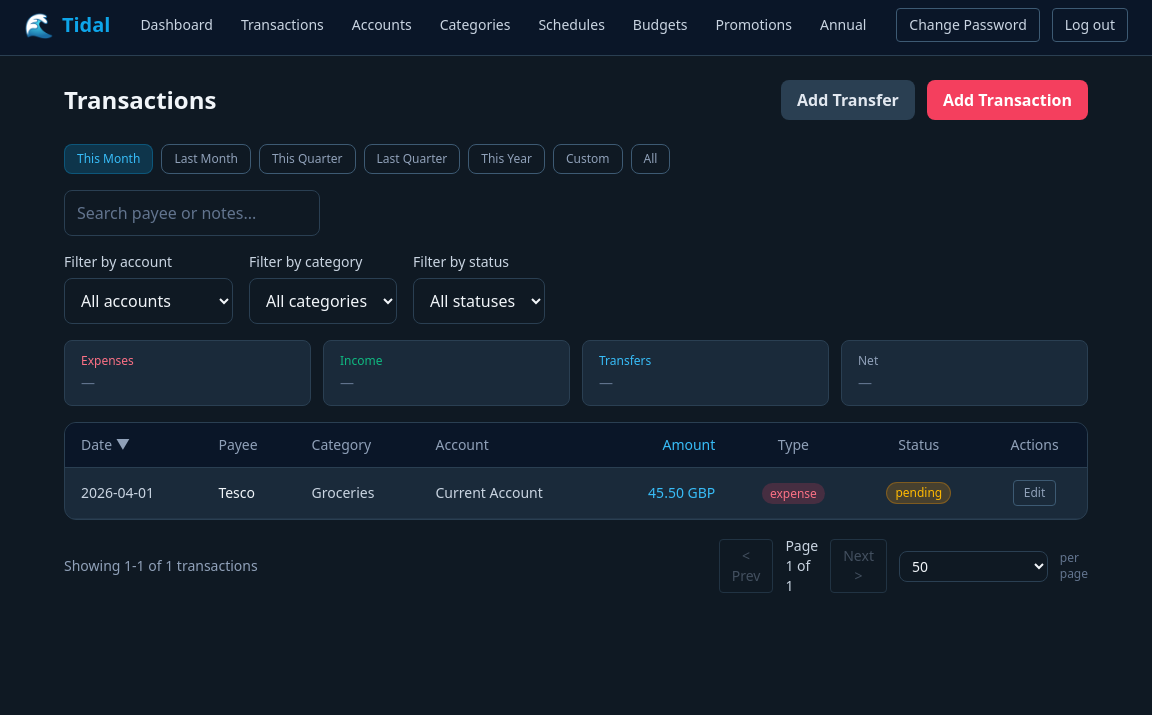
Scenario: TransactionsPage › clicking Edit opens AddTransactionForm in edit mode
Expected: the text "Tesco" is shown, [202, 468, 296, 518]
What coordinates should you click on to do the following:
click the button with aria-label "edit transaction"
I would click on:
 (1035, 493)
Its box is [1013, 480, 1056, 506].
(page scrolled)
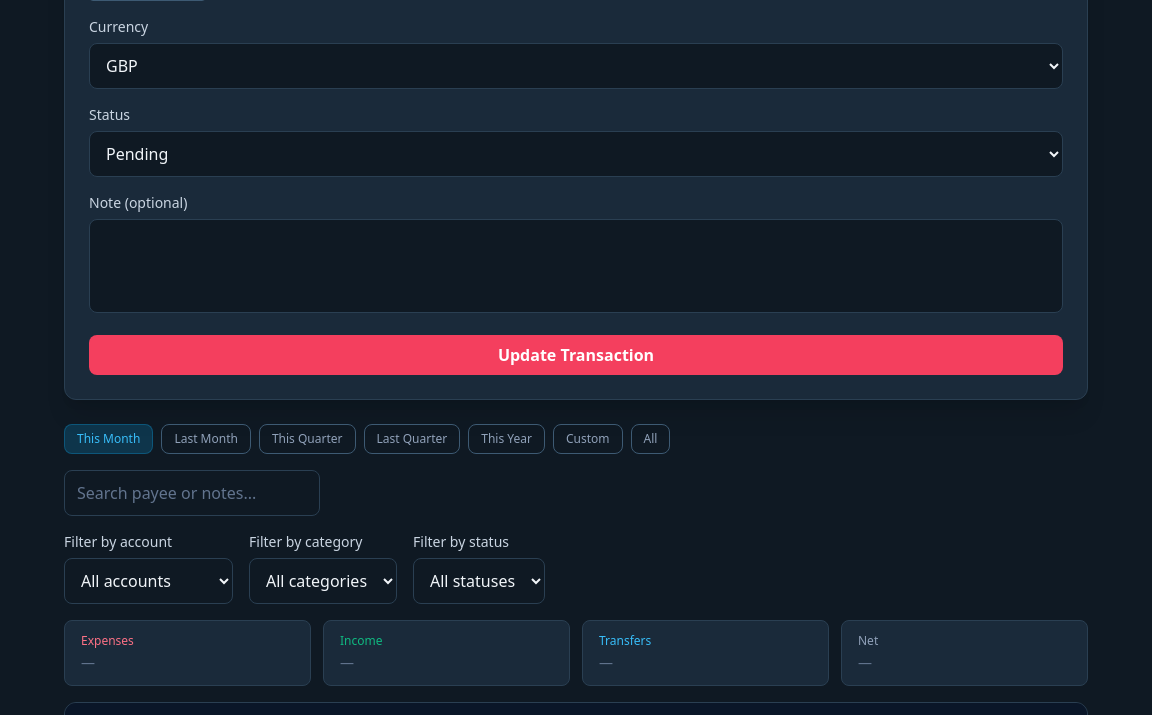
Now the button "Update Transaction" is shown, box [89, 335, 1063, 375]
